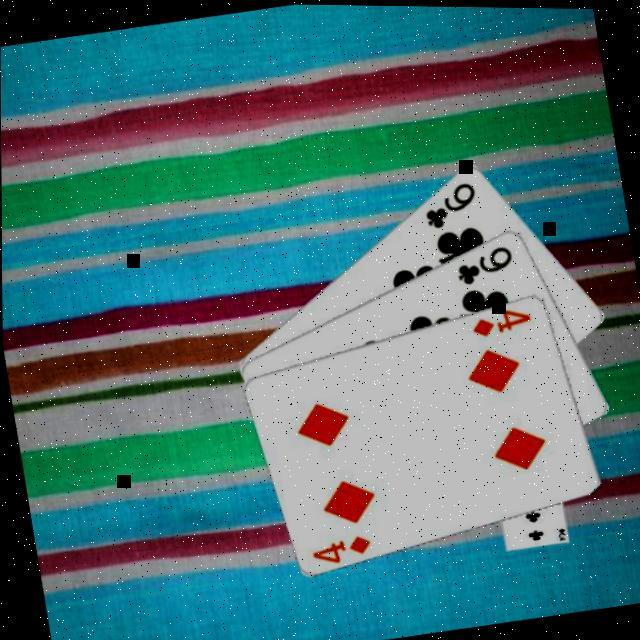4D: (468, 302, 538, 341), (308, 530, 378, 569)
9C: (420, 177, 486, 234), (453, 240, 520, 290)
